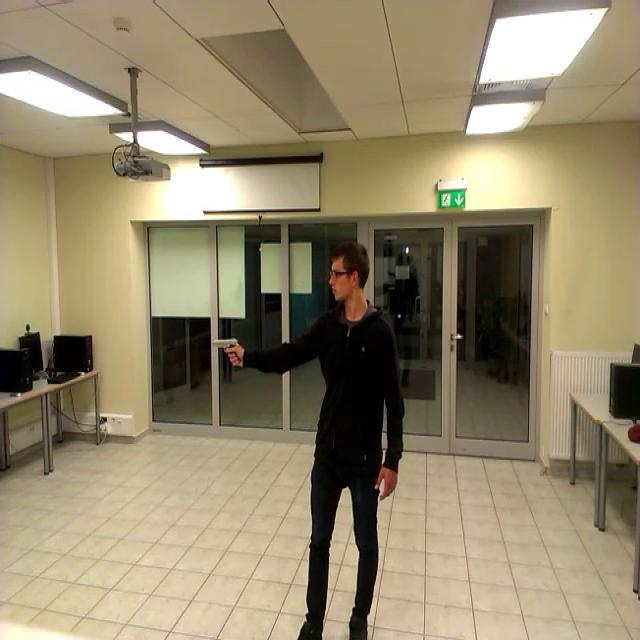Gun: (212, 337, 240, 361)
